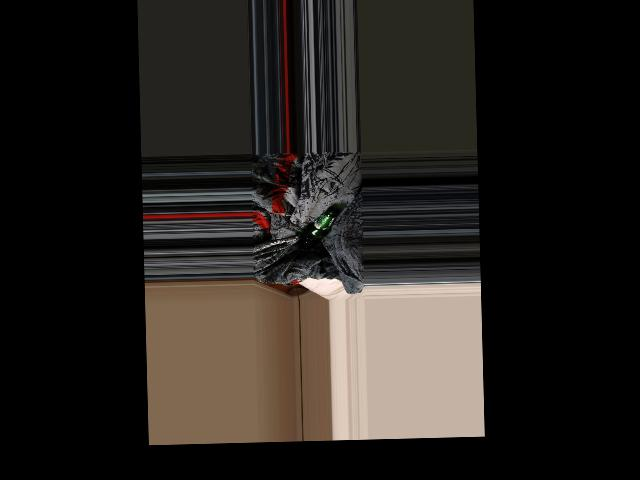beer: (297, 205, 339, 249)
